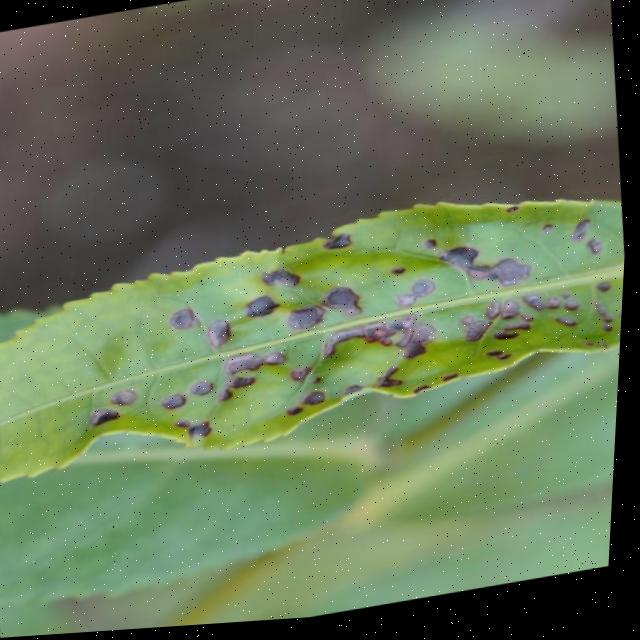Tea red scab: (83, 203, 617, 462)
